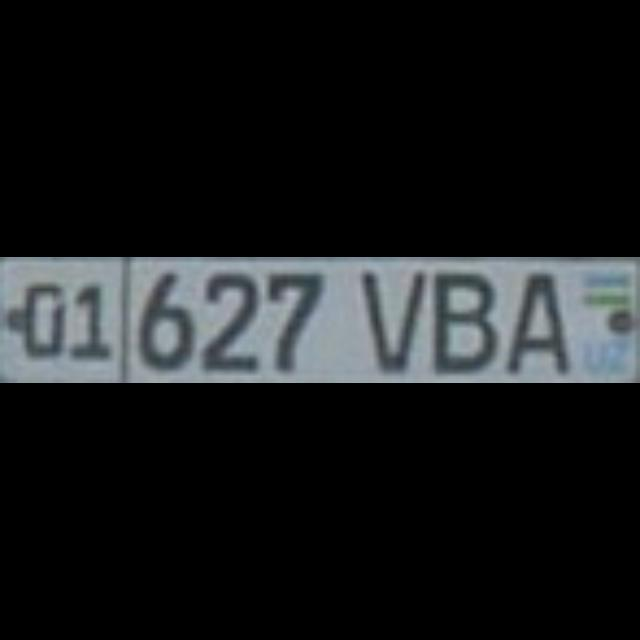0: (17, 279, 61, 353)
1: (66, 279, 104, 357)
2: (195, 270, 252, 366)
6: (134, 270, 192, 366)
7: (262, 270, 318, 362)
A: (501, 270, 571, 370)
B: (426, 270, 492, 366)
V: (358, 266, 422, 370)
